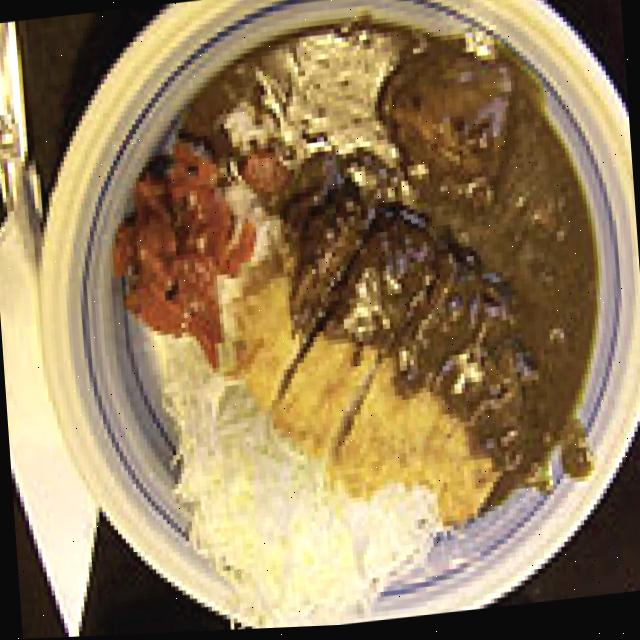猪肉菜式: (13, 0, 640, 640)
